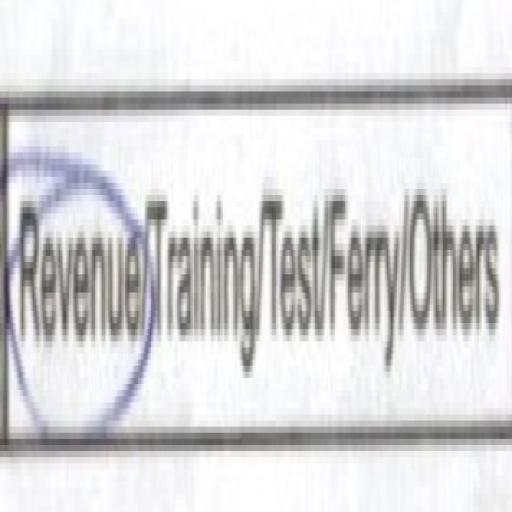check: (0, 20, 144, 512)
